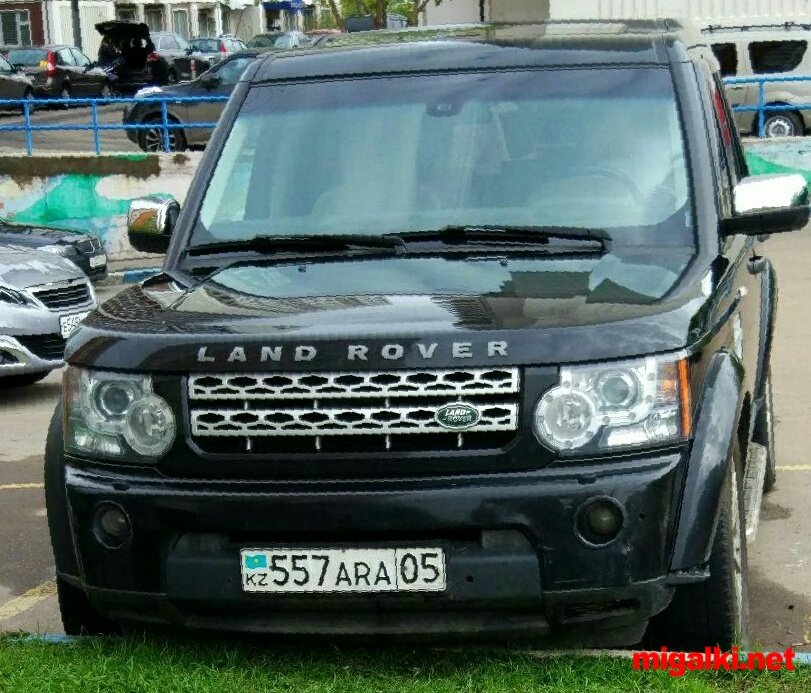license_plate: (240, 545, 448, 595)
